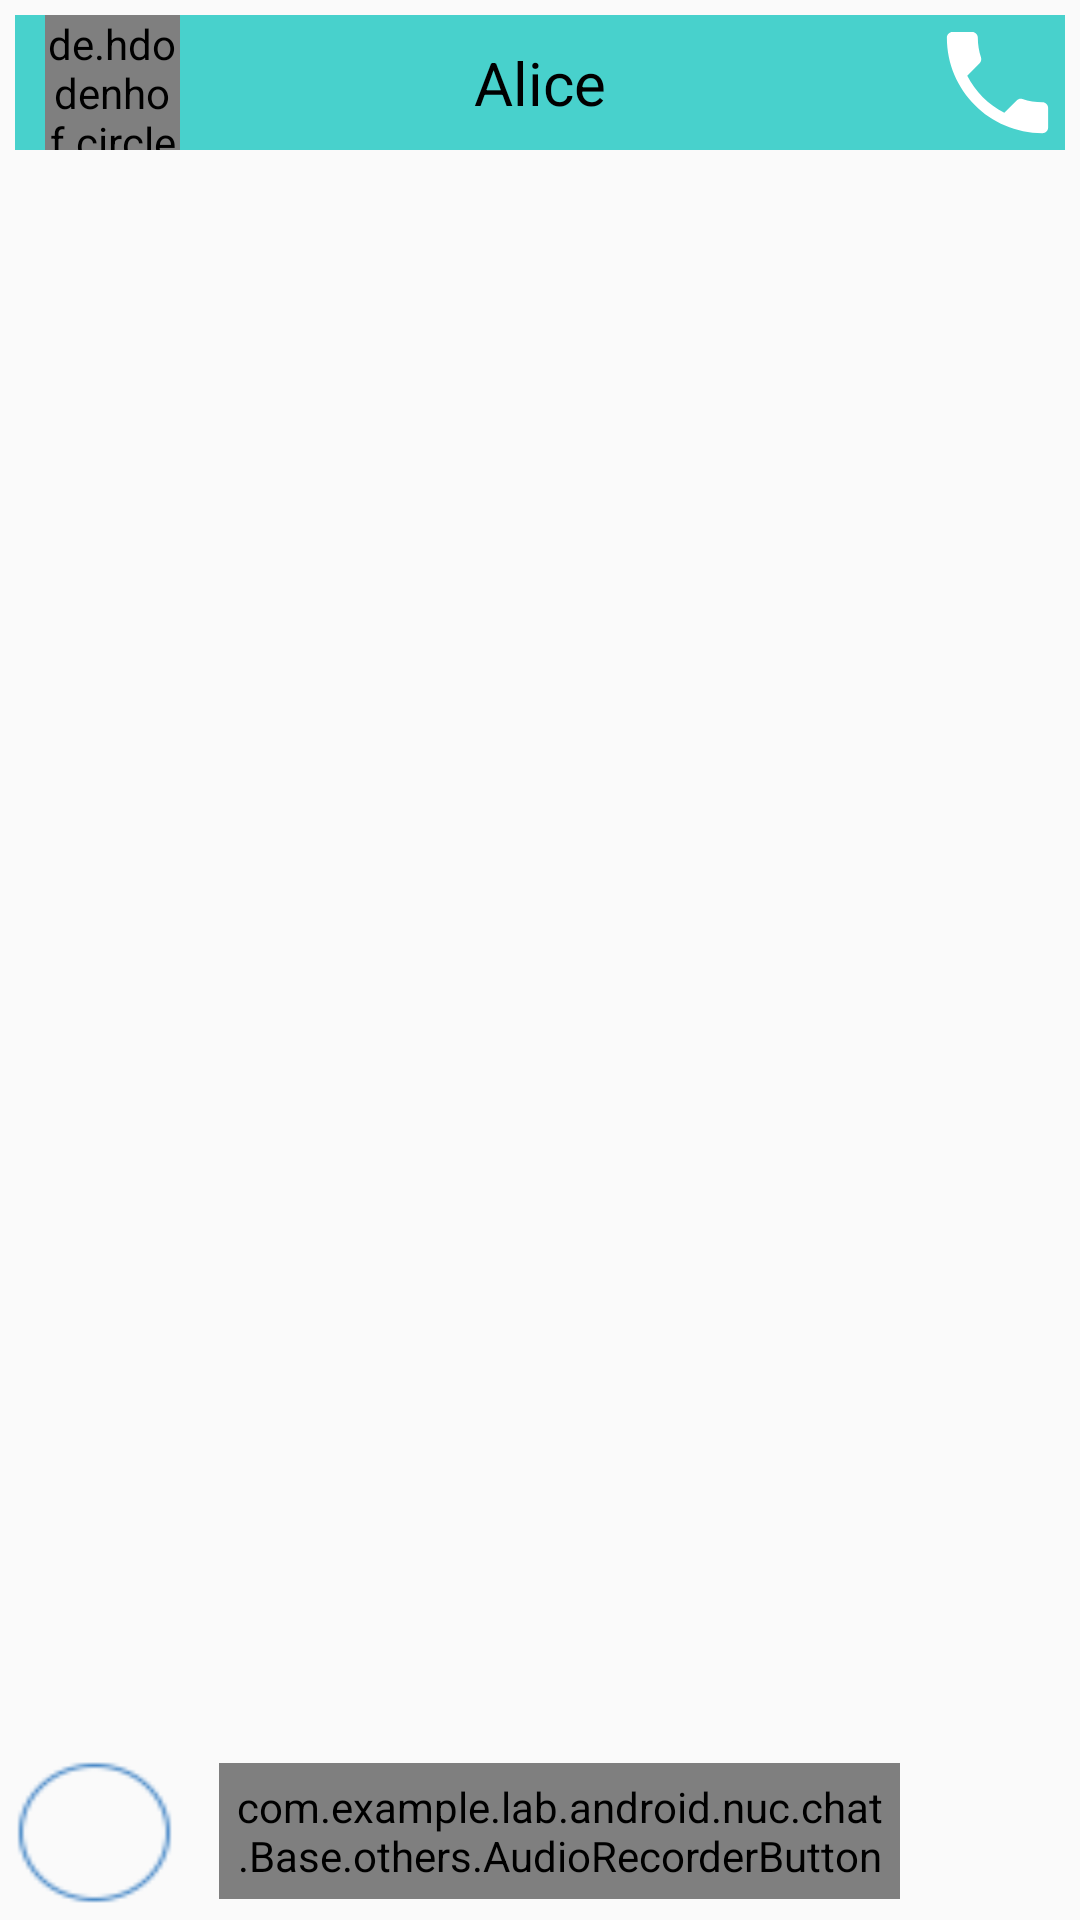

Locate icon controls on the screen. Image size 1080 x 1920, boxes as box=[x1, y1, x2, y2].
phone: box=[930, 15, 1065, 150]
